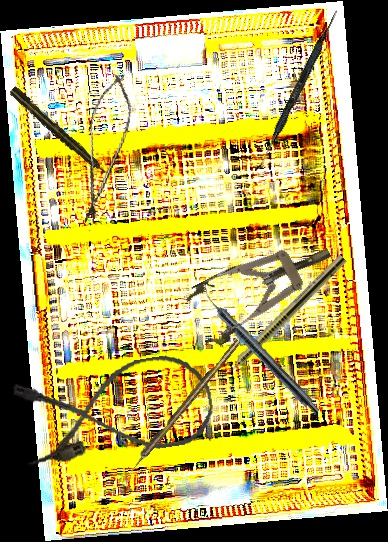Cannula: (12, 349, 218, 470)
Handpiece: (212, 252, 349, 388), (196, 284, 324, 417), (8, 84, 112, 181)
Hook Surgical: (124, 338, 242, 477)
Micro Scissor: (71, 67, 139, 231)
Spatula Surgical: (254, 7, 340, 175)
Speculum: (180, 224, 345, 351)
